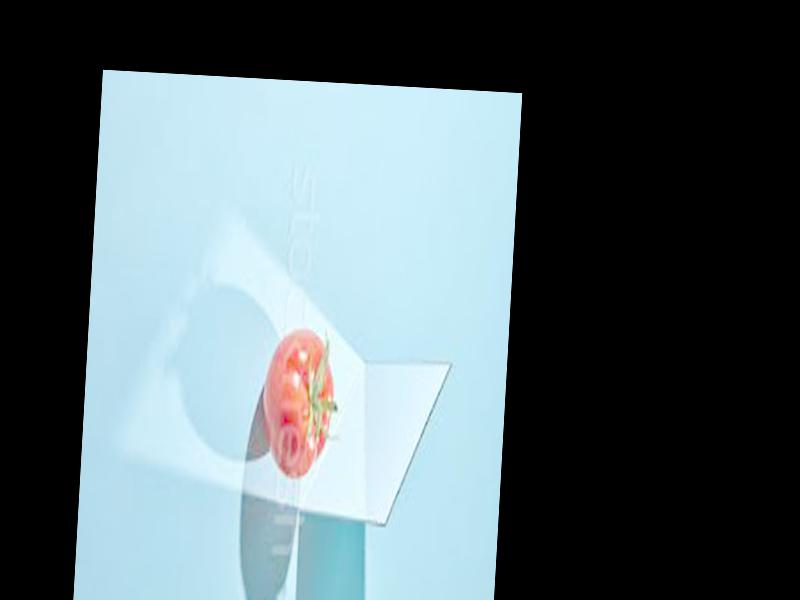Tomato: (258, 327, 337, 481)
